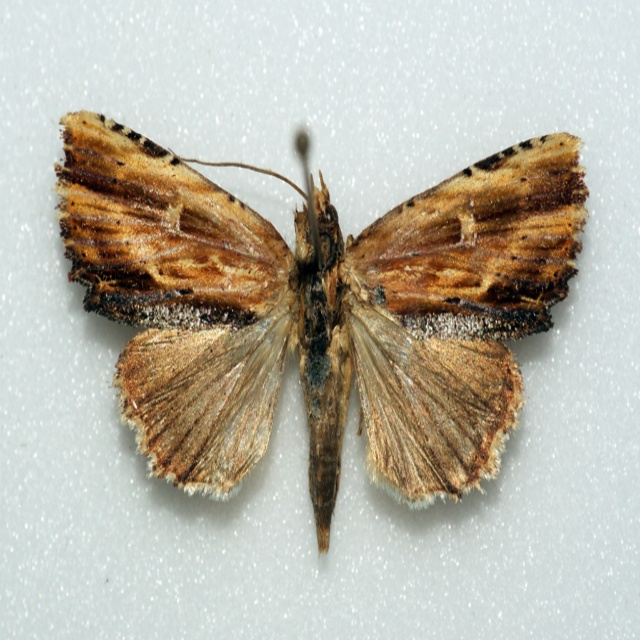Butterfly: (59, 102, 617, 551)
